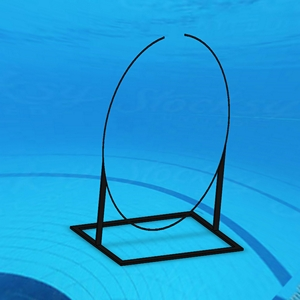circle: (68, 33, 245, 272)
